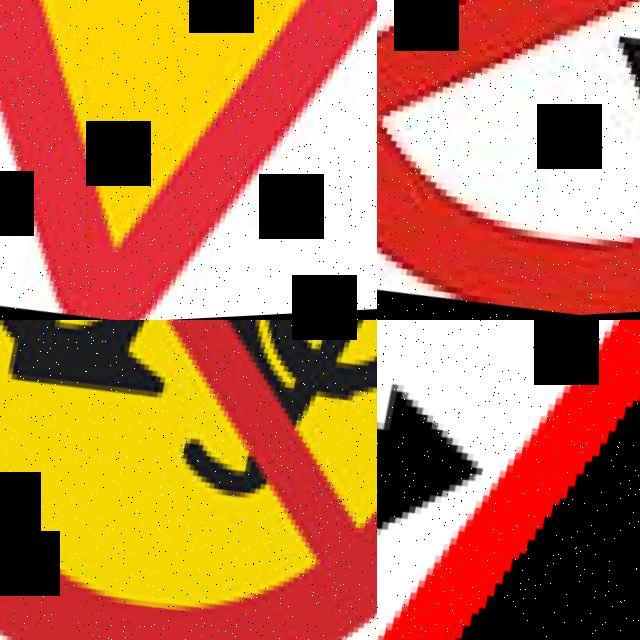149: (0, 0, 377, 320)
43: (0, 320, 377, 640)
Left curve: (377, 320, 640, 640)
One-way traffic: (377, 0, 640, 320)
